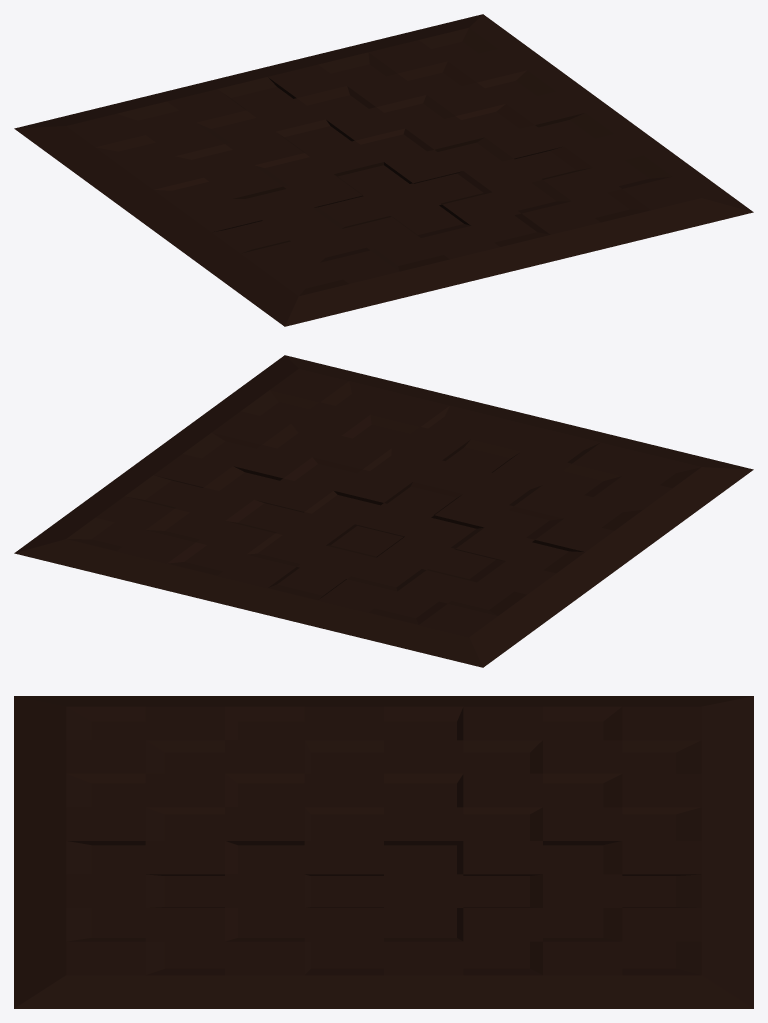
File: Пустая грядка.obj
3 renders of one model, top to bottom at view 1: azimuth 30°, elevation 25°; view 2: azimuth 150°, elevation 25°; view 3: azimuth 270°, elevation 25°, orthographic. The views are drawn at different scales.
Parts seen in each view (by area): view 1: Plane; view 2: Plane; view 3: Plane.
Boxes of the visible parts, left/top/right/bottom form: Plane: left=14, top=14, right=753, bottom=326; Plane: left=14, top=355, right=753, bottom=667; Plane: left=14, top=696, right=753, bottom=1008.
Size of the model in its own units: 1 by 0.0173 by 1.
